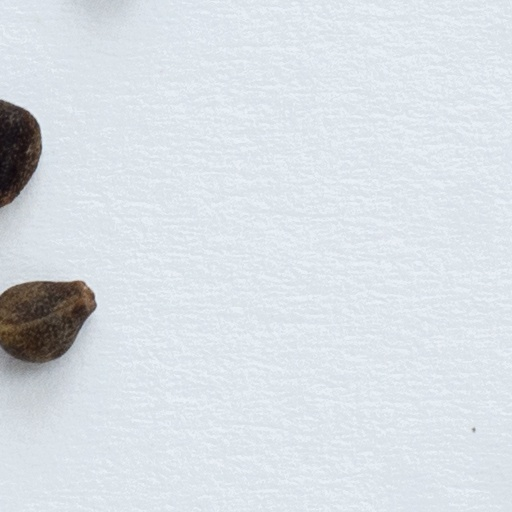Convolvulus-poly: (0, 279, 99, 367), (0, 98, 42, 213)
